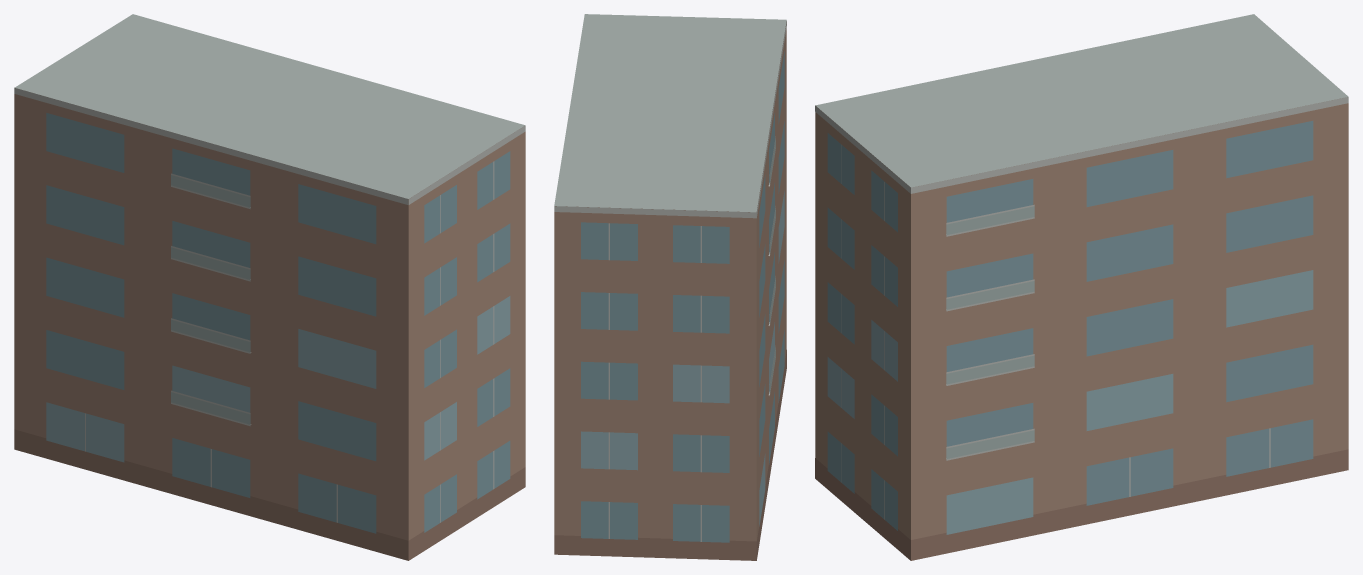
File: survey-upis-32746336.glb
The picture shows the model from 3 angles, left to right: view 1: azimuth 30°, elevation 25°; view 2: azimuth 150°, elevation 25°; view 3: azimuth 270°, elevation 25°; orthographic projection. The views are drawn at different scales.
Parts seen in each view (by area): view 1: survey-upis-32746336.tmp; view 2: survey-upis-32746336.tmp; view 3: survey-upis-32746336.tmp.
Boxes of the visible parts, x1,y1,x2,y2 form: survey-upis-32746336.tmp: (14,14,525,560); survey-upis-32746336.tmp: (554,14,786,560); survey-upis-32746336.tmp: (815,14,1348,560).
Size of the model in its own units: 14.27 by 14.3 by 18.53.
